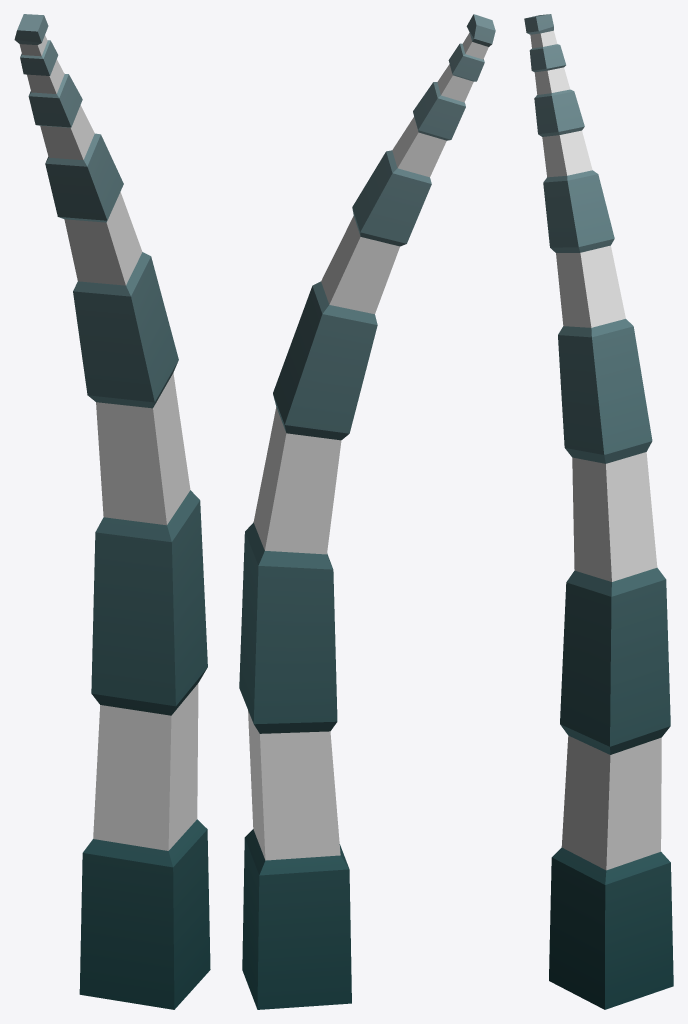
The picture shows the model from 3 angles, left to right: view 1: azimuth 30°, elevation 25°; view 2: azimuth 150°, elevation 25°; view 3: azimuth 270°, elevation 25°; orthographic projection. The views are drawn at different scales.
Parts seen in each view (by area): view 1: Cube.151; view 2: Cube.151; view 3: Cube.151.
Boxes of the visible parts, x1,y1,x2,y2 form: Cube.151: (14, 14, 210, 1009); Cube.151: (239, 14, 495, 1009); Cube.151: (524, 14, 673, 1009).
Size of the model in its own units: 6.63 by 28.31 by 4.24.
